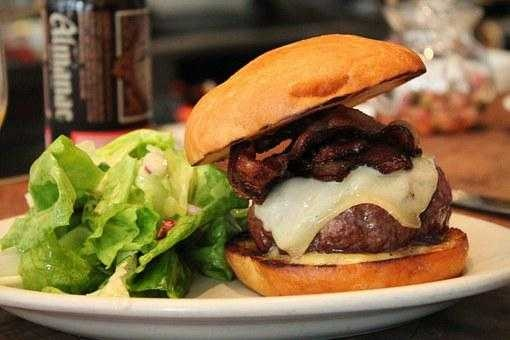hamburger: (233, 20, 455, 293)
